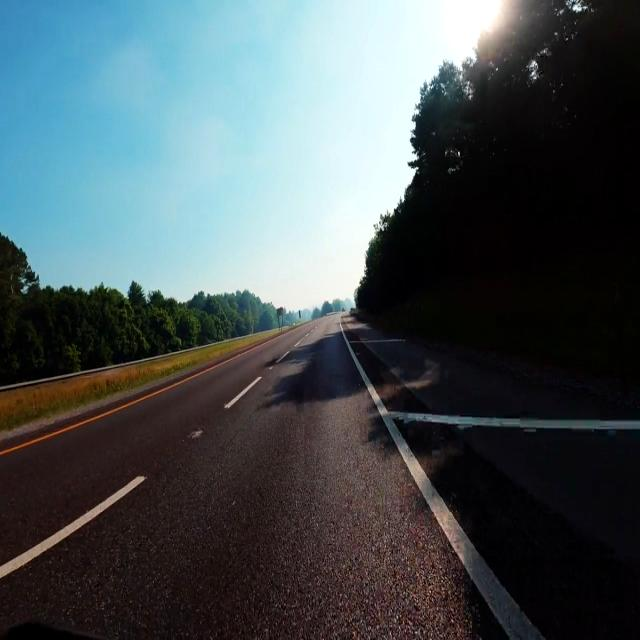road: (0, 316, 504, 637), (397, 422, 640, 636), (343, 316, 640, 417)
